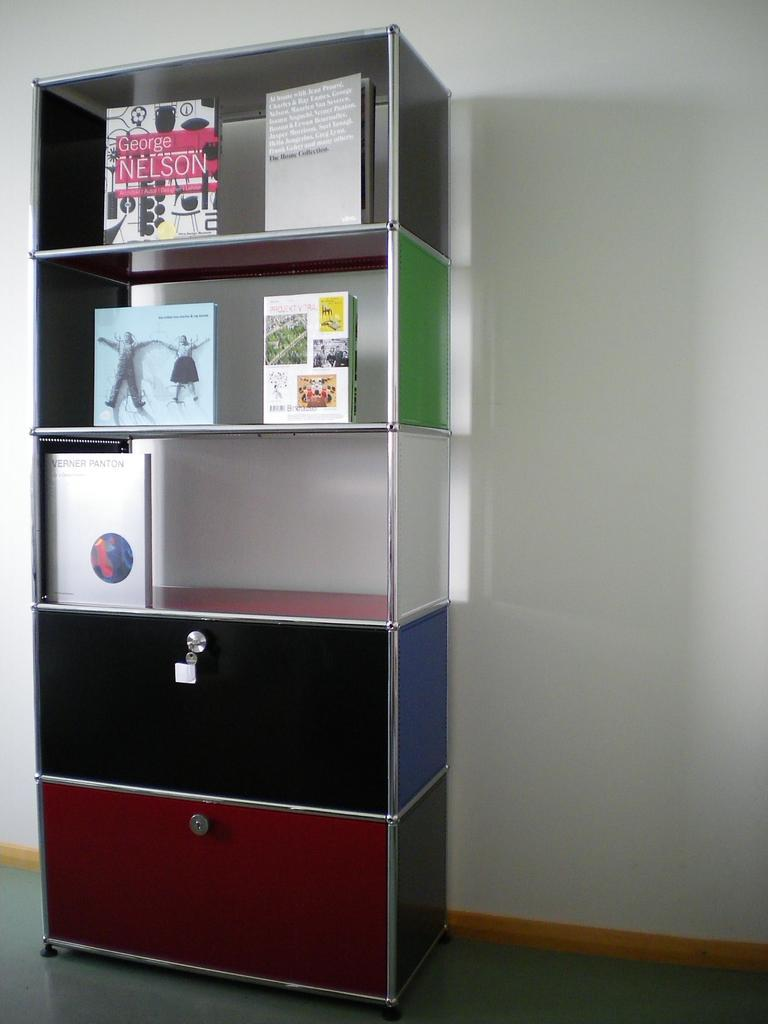cabinet_door: (43, 788, 382, 973), (40, 618, 378, 800)
handle: (175, 632, 203, 702), (194, 794, 213, 858)
